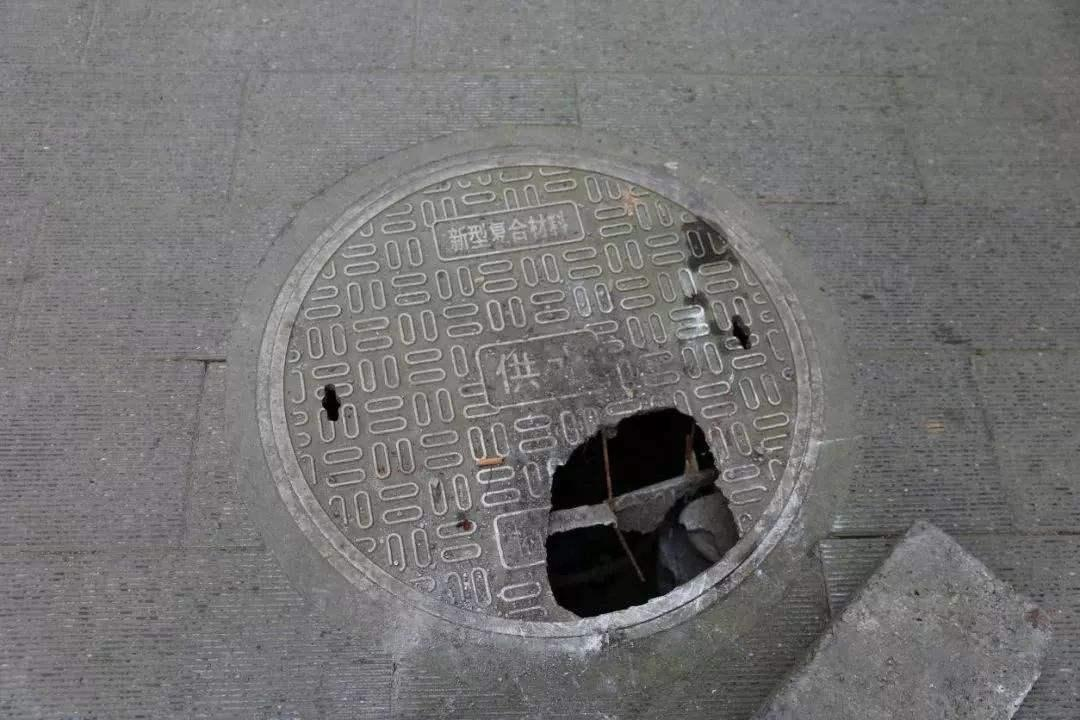wellcover: (273, 137, 821, 650)
